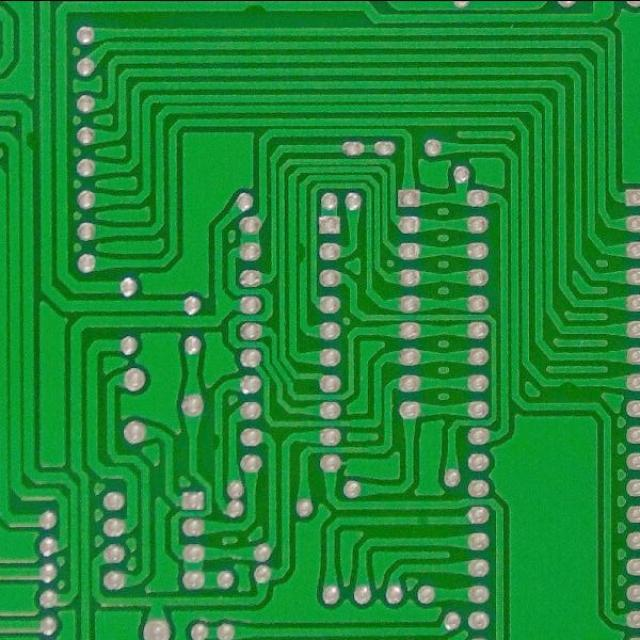mouse_bite: (238, 1, 272, 20), (294, 238, 308, 269), (20, 128, 36, 154), (556, 378, 580, 393), (209, 429, 223, 454)
